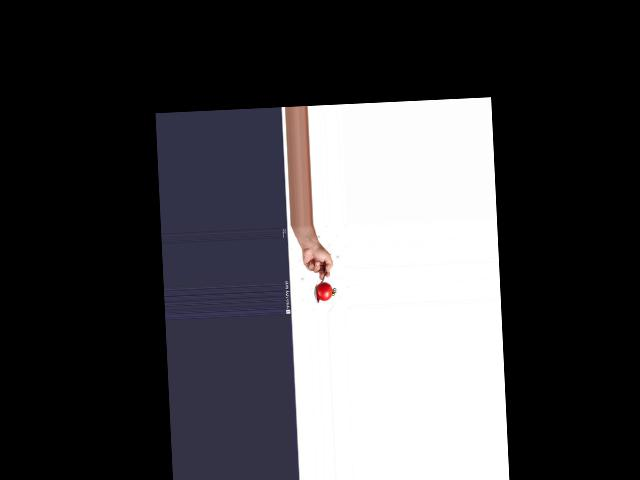tomato: (316, 281, 332, 300)
